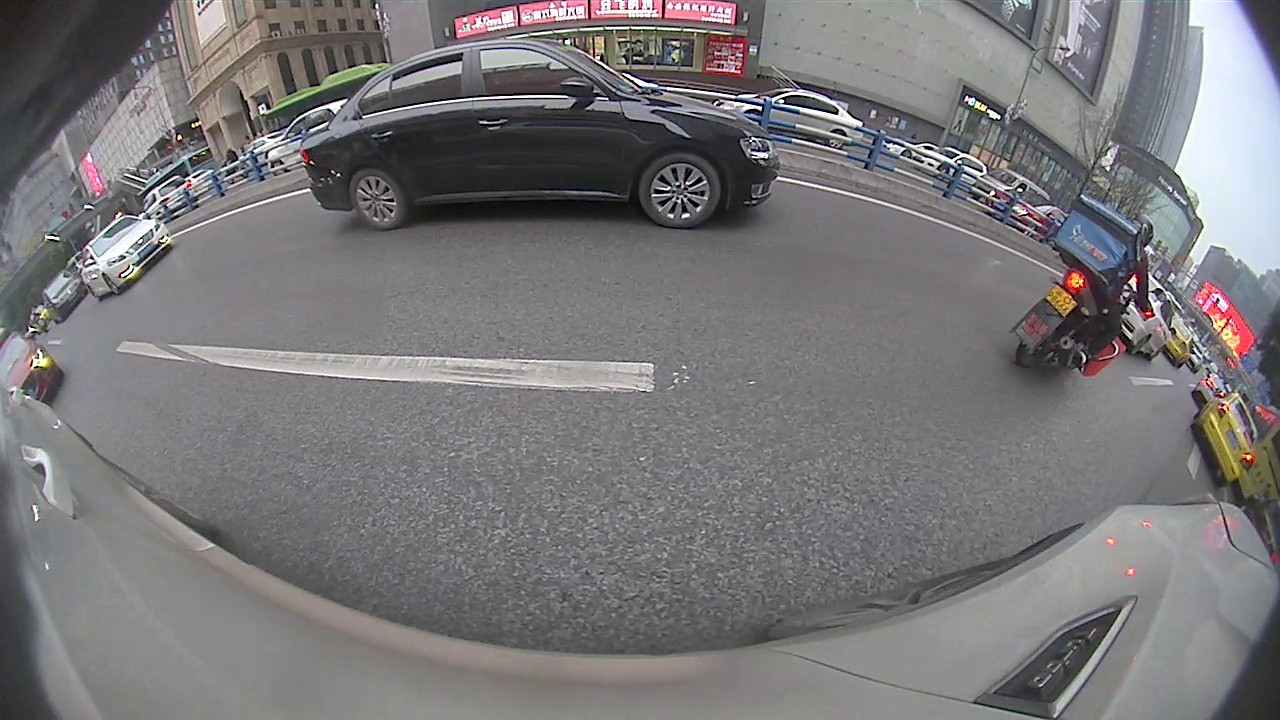car: (297, 36, 783, 232), (77, 213, 176, 303)
front: (638, 151, 723, 230)
rear: (349, 168, 406, 230)
rider: (1009, 193, 1168, 375)
